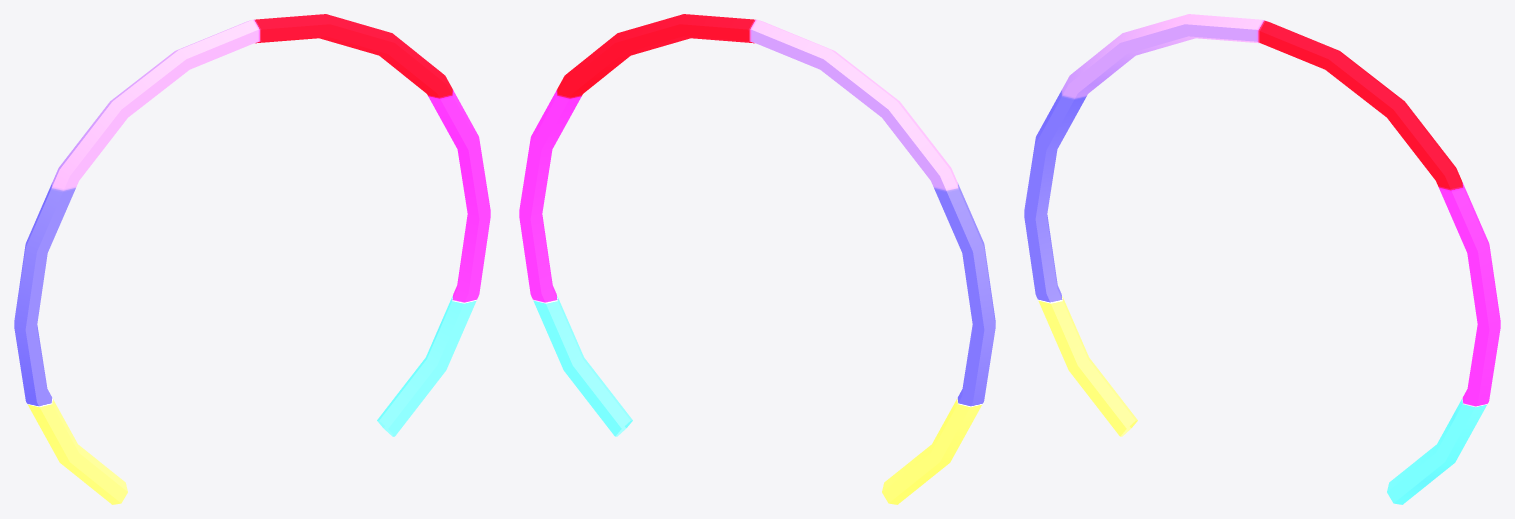
Rendered from ETC0110005.fbx.
The picture shows the model from 3 angles, left to right: view 1: azimuth 30°, elevation 25°; view 2: azimuth 150°, elevation 25°; view 3: azimuth 330°, elevation 25°; orthographic projection.
Parts seen in each view (by area): view 1: smETC0110005; view 2: smETC0110005; view 3: smETC0110005.
Boxes of the visible parts, x1,y1,x2,y2 form: smETC0110005: (14,14,490,504); smETC0110005: (519,14,995,504); smETC0110005: (1024,14,1500,504).
Size of the model in its own units: 317 by 287 by 13.09.
Materials: 1 (1 with a texture image).
